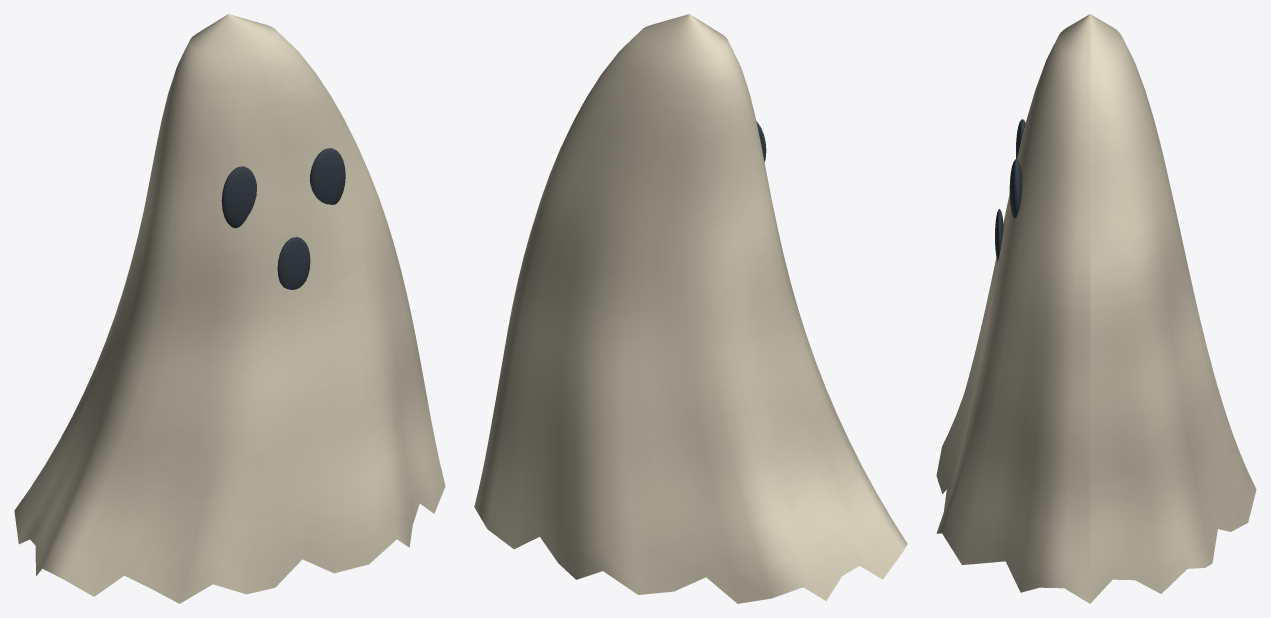
File: ghost.glb
The picture shows the model from 3 angles, left to right: view 1: azimuth 30°, elevation 25°; view 2: azimuth 150°, elevation 25°; view 3: azimuth 270°, elevation 25°; orthographic projection. The views are drawn at different scales.
Visible parts, largest first — view 1: wandering-sheet-ghost; view 2: wandering-sheet-ghost; view 3: wandering-sheet-ghost.
Part boxes in pixels (x1,y1,x2,y2): wandering-sheet-ghost: [14, 14, 445, 603]; wandering-sheet-ghost: [474, 14, 907, 603]; wandering-sheet-ghost: [936, 14, 1256, 603].
Bounding box in the file's own units: 0.8486 × 1.05 × 0.6103.
2 materials, 1 textured.
